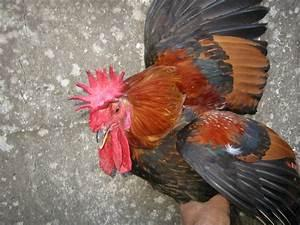hen: (67, 0, 299, 224)
